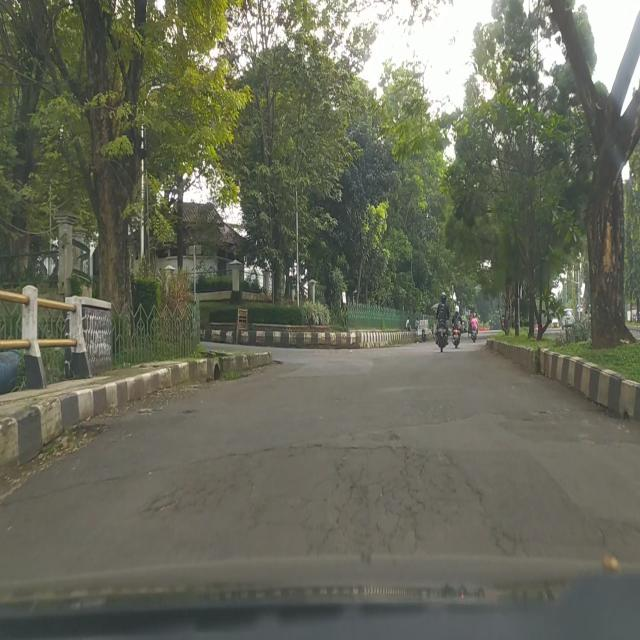Drain Hole: (316, 450, 486, 546), (142, 473, 232, 521)
Sewer Cover: (4, 440, 320, 508)
